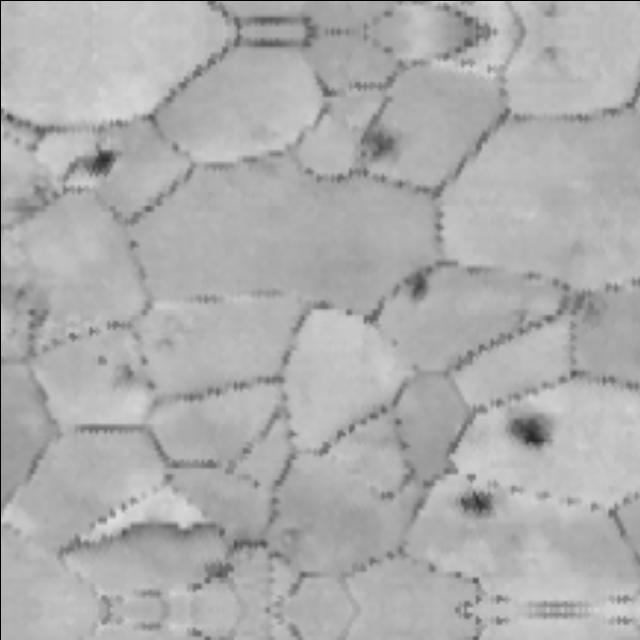good_void: (450, 477, 510, 527), (70, 146, 127, 188), (511, 410, 549, 452), (359, 121, 402, 158), (407, 266, 438, 297), (538, 37, 564, 68), (201, 556, 234, 578), (538, 0, 564, 23), (117, 362, 134, 381), (138, 373, 154, 392), (134, 349, 152, 364), (93, 351, 109, 366)
